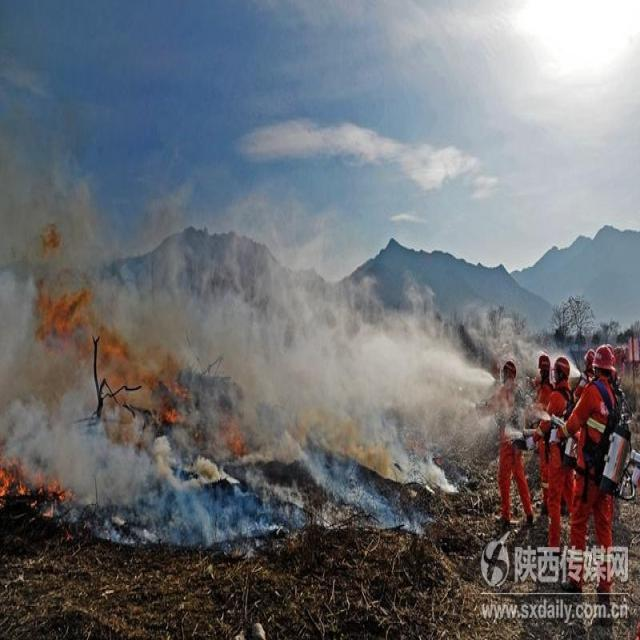Fire: (34, 288, 192, 442), (1, 454, 78, 517), (220, 418, 248, 456)
Smoke: (1, 152, 546, 557)
